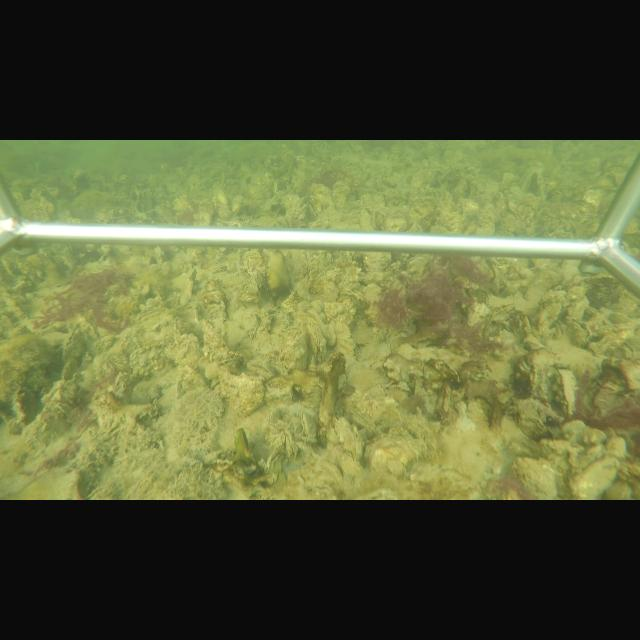Oyster-Closed: (362, 428, 430, 471), (218, 368, 268, 419), (565, 454, 621, 498), (509, 456, 560, 499), (554, 365, 577, 420), (335, 321, 362, 363), (176, 262, 199, 306), (304, 322, 328, 364), (308, 183, 338, 216), (59, 321, 84, 357), (280, 195, 307, 222), (332, 180, 352, 210), (300, 410, 317, 445), (193, 198, 215, 225), (211, 183, 231, 208), (285, 430, 299, 465), (265, 450, 285, 474), (60, 355, 78, 380), (231, 193, 246, 215)
Oyster-Open: (563, 315, 593, 348)
